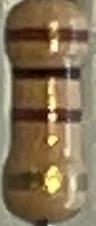Black: (12, 67, 83, 79)
Brown: (5, 27, 89, 44), (12, 107, 83, 124)
Side-Gold: (4, 173, 88, 193)
